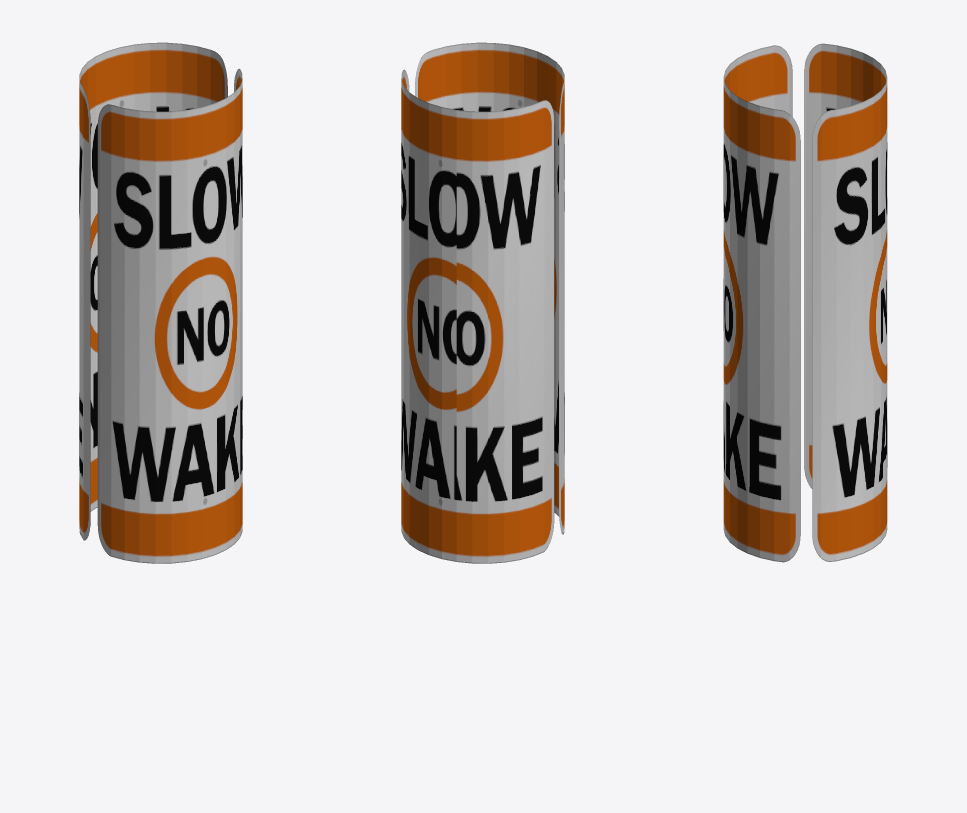
File: slow.dae
The picture shows the model from 3 angles, left to right: view 1: azimuth 30°, elevation 25°; view 2: azimuth 150°, elevation 25°; view 3: azimuth 270°, elevation 25°; orthographic projection.
Parts seen in each view (by area): view 1: Cylinder_001; view 2: Cylinder_001; view 3: Cylinder_001.
Boxes of the visible parts, x1,y1,x2,y2 form: Cylinder_001: (79, 42, 242, 563); Cylinder_001: (401, 42, 564, 563); Cylinder_001: (723, 43, 887, 562).
Bounding box in the file's own units: 0.4572 × 0.4572 × 1.22.
Materials: 1 (1 with a texture image).
